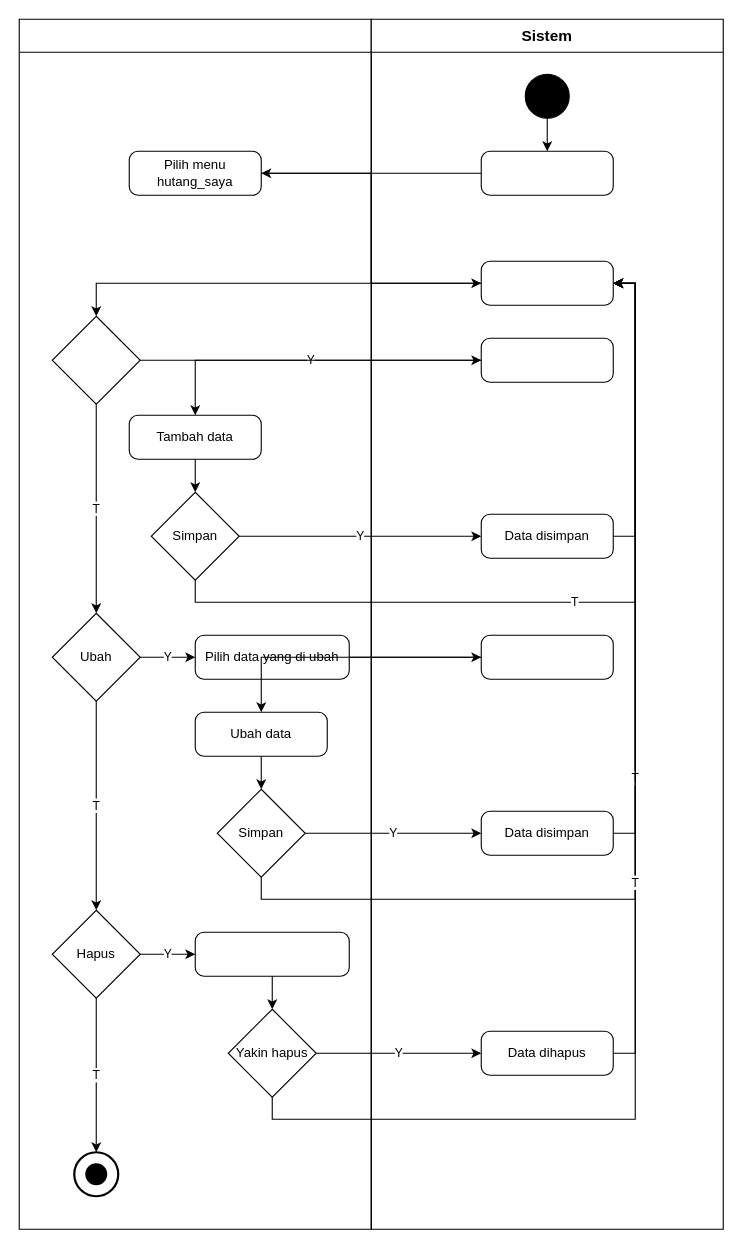
Some shapes in this 743 by 1249 pixel diagram are drawn without their labels. The box of each missing label's shape, as (x1, y1, x2, y2) in pixels:
Pengguna: (18, 18, 371, 1229)
Pilih data yang akan dihapus: (194, 931, 349, 976)
Tambah: (51, 315, 140, 404)
Tampil beranda: (480, 150, 613, 195)
Tampil data hutang_saya: (480, 260, 613, 305)
Tampil form tambah: (480, 337, 613, 382)
Tampil form ubah: (480, 634, 613, 679)
